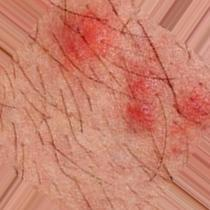Fleas: (57, 11, 113, 70), (126, 62, 154, 131), (177, 88, 209, 125)
